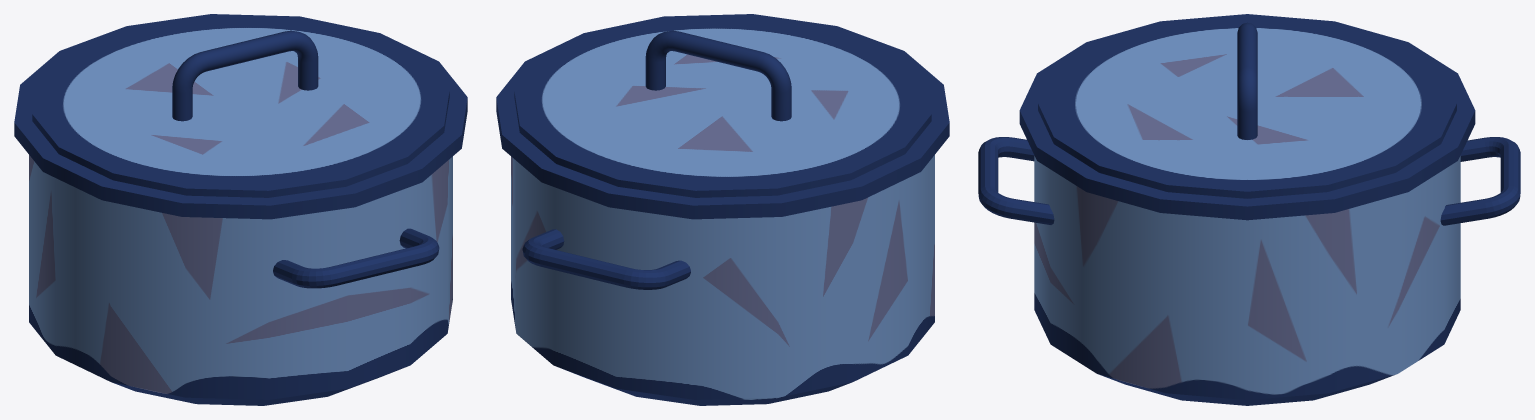
The model's file is PRMC_Olla.FBX.
3 renders of one model, left to right at view 1: azimuth 30°, elevation 25°; view 2: azimuth 150°, elevation 25°; view 3: azimuth 270°, elevation 25°, orthographic.
Visible parts, largest first — view 1: PRMC_Olla; view 2: PRMC_Olla; view 3: PRMC_Olla.
Boxes of the visible parts, x1=… form: PRMC_Olla: x1=14, y1=14, x2=467, y2=405; PRMC_Olla: x1=496, y1=14, x2=949, y2=405; PRMC_Olla: x1=978, y1=14, x2=1520, y2=405.
Bounding box in the file's own units: 1.09 × 0.7622 × 1.3.
